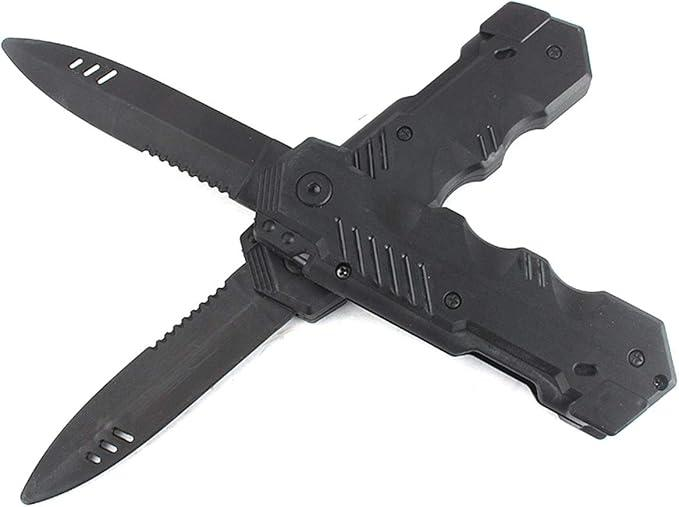Knife: (17, 0, 626, 507), (1, 28, 679, 447)
